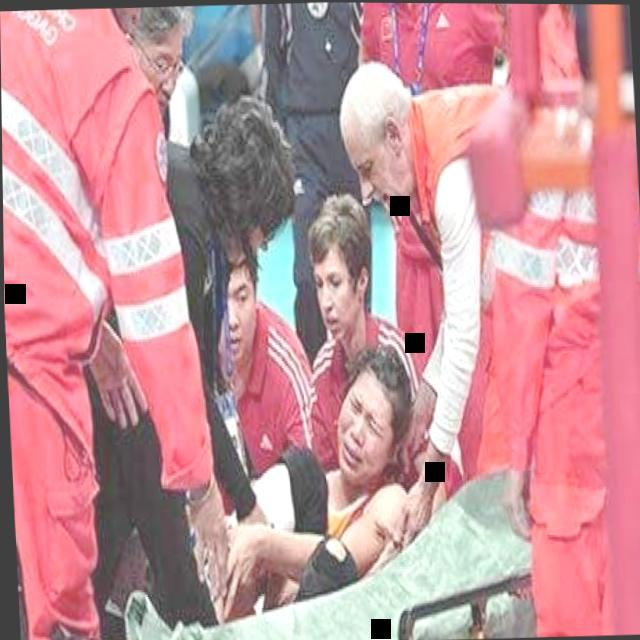Fall-Detected: (109, 291, 450, 640)
